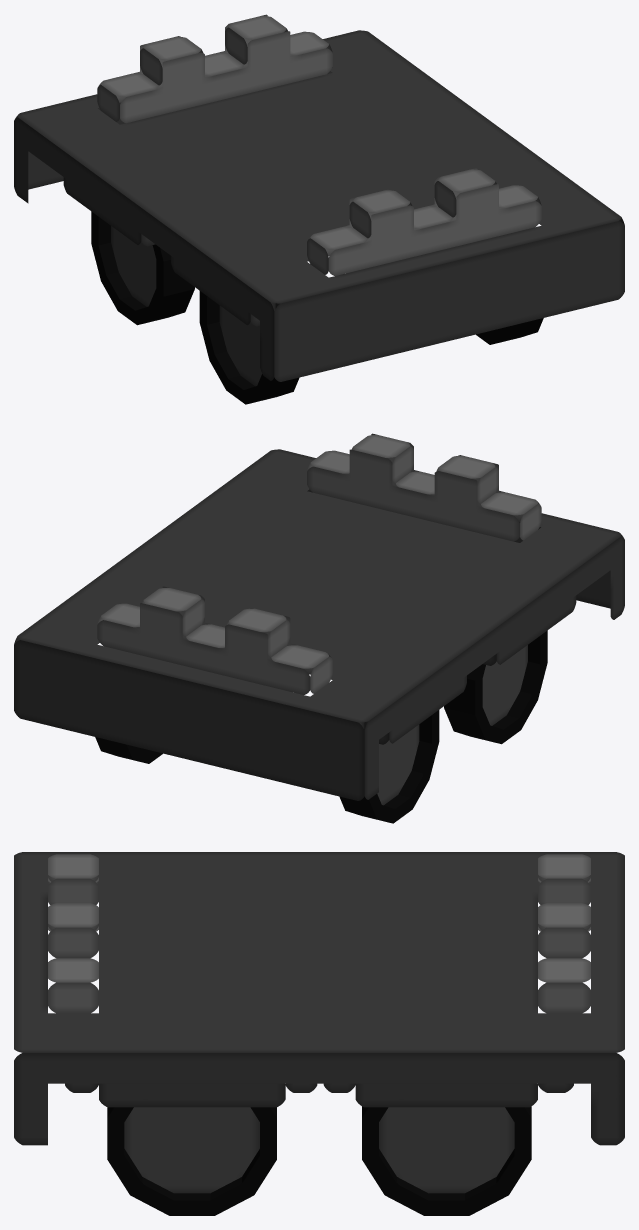
Rendered from Crafting.obj.
The picture shows the model from 3 angles, top to bottom: view 1: azimuth 30°, elevation 25°; view 2: azimuth 150°, elevation 25°; view 3: azimuth 270°, elevation 25°; orthographic projection. The views are drawn at different scales.
Parts seen in each view (by area): view 1: mesh, 3_L, 2_L, 2_R; view 2: mesh, 2_L, 3_L, 3_R; view 3: mesh, 3_R, 2_R.
Part boxes in pixels (x1,y1,x2,y2): mesh: (14, 14, 624, 381); 3_L: (91, 211, 194, 325); 2_L: (199, 291, 299, 404); 2_R: (476, 318, 543, 344); mesh: (14, 433, 624, 800); 2_L: (444, 630, 547, 744); 3_L: (339, 710, 439, 823); 3_R: (95, 737, 162, 763); mesh: (14, 852, 624, 1145); 3_R: (362, 1106, 531, 1215); 2_R: (107, 1107, 276, 1215).
Size of the model in its own units: 1.75 by 1 by 2.25.
1 material, 1 textured.
